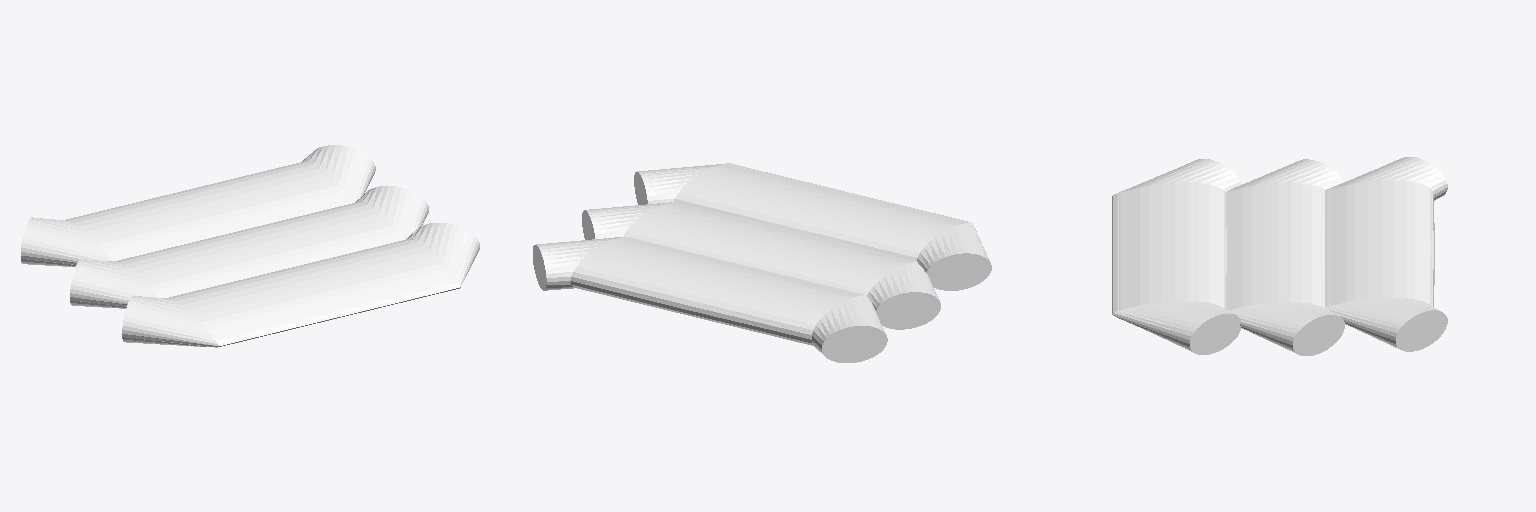
File: spitfireExhaust.obj
3 views of the same model, side by side, from view 1: azimuth 30°, elevation 25°; view 2: azimuth 150°, elevation 25°; view 3: azimuth 270°, elevation 25° (orthographic).
Visible parts, largest first — view 1: Cylinder; view 2: Cylinder; view 3: Cylinder.
Part boxes in pixels (left/top/right/bottom): Cylinder: left=21, top=145, right=479, bottom=347; Cylinder: left=533, top=163, right=991, bottom=362; Cylinder: left=1112, top=157, right=1447, bottom=355.
Size of the model in its own units: 1.14 by 0.1216 by 0.9215.